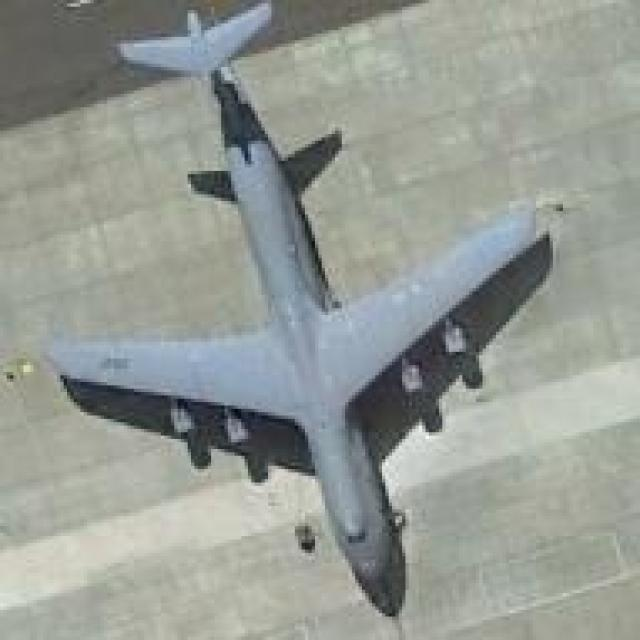C-5_TopDown: (50, 1, 559, 616)
